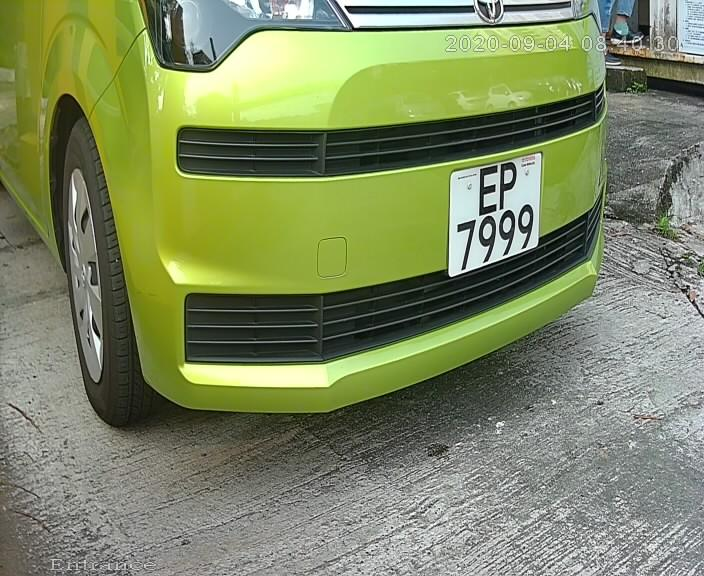License Plate: (441, 142, 547, 283)
